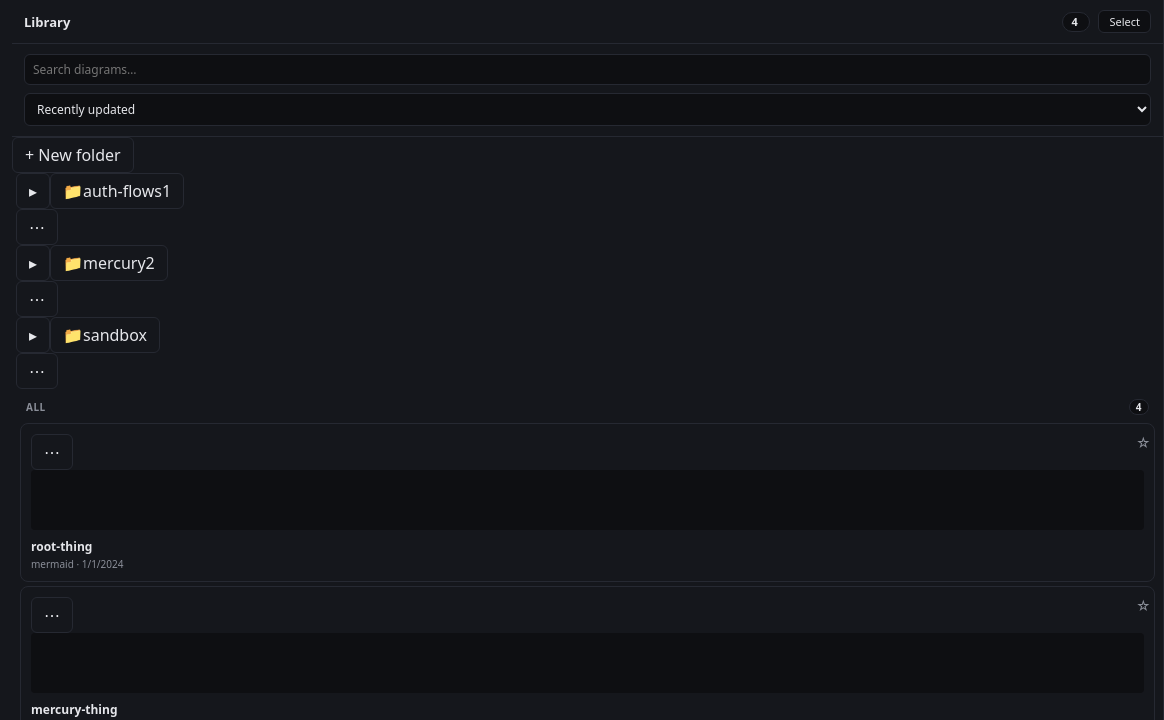
Test: Library folder tree (issue #7 Wave 2C) › clicking a folder name selects it and scopes the All list
// Click on mercury folder name.
Click the button with test id "library-tree-name-mercury" at (109, 263), box [50,245,168,281]
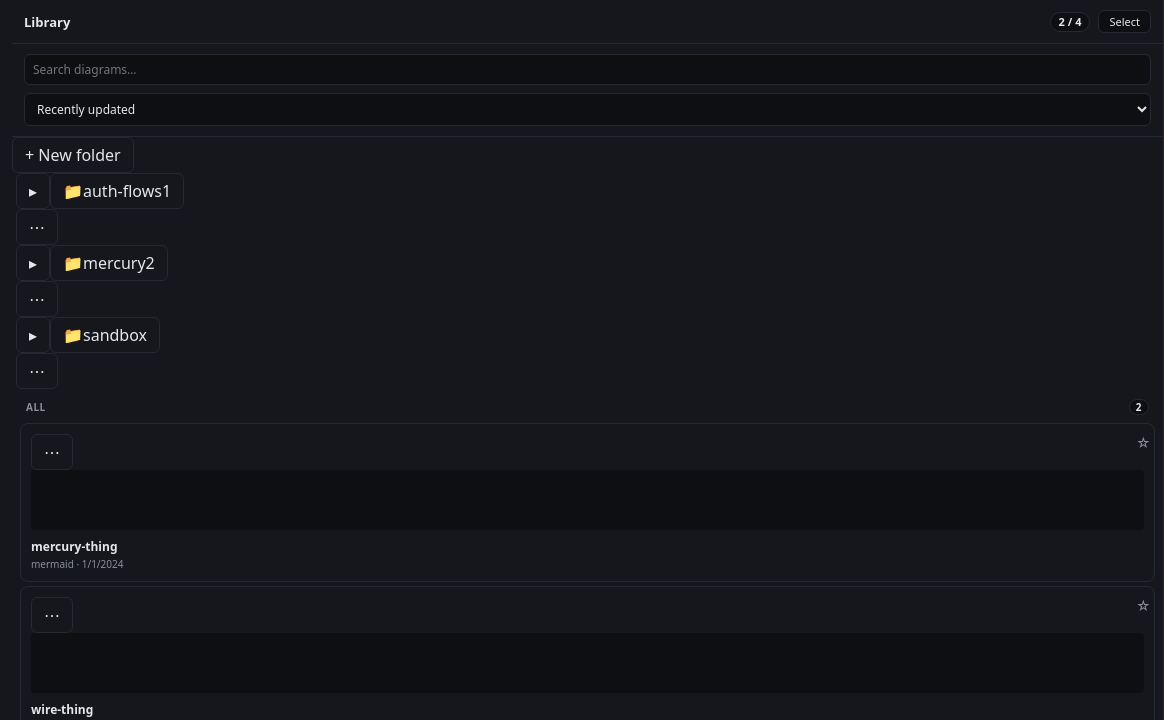
Expected: the text "mercury" is shown, [83,252,146,274]
Expected: the number of elements with class "library-name" is 2, [31,538,118,555]; [31,701,93,718]
